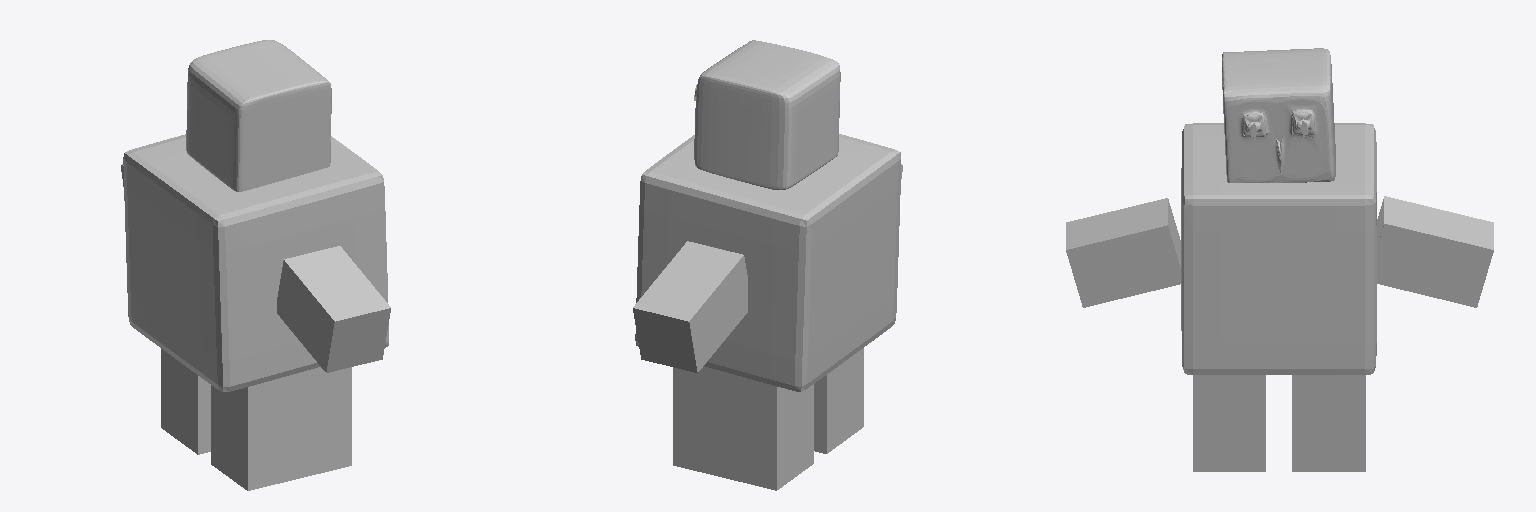
The picture shows the model from 3 angles: view 1: azimuth 30°, elevation 25°; view 2: azimuth 150°, elevation 25°; view 3: azimuth 270°, elevation 25°; orthographic projection.
Visible parts, largest first — view 1: Cube_Cube.001, Cube.001_Cube.002, Cube.002_Cube.003, Cube.005_Cube.007, Cube.003_Cube.004; view 2: Cube_Cube.001, Cube.001_Cube.002, Cube.003_Cube.004, Cube.004_Cube.005, Cube.002_Cube.003; view 3: Cube_Cube.001, Cube.001_Cube.002, Cube.004_Cube.005, Cube.005_Cube.007, Cube.003_Cube.004, Cube.002_Cube.003.
Part boxes in pixels (x1,y1,x2,y2): Cube_Cube.001: (123, 134, 388, 391); Cube.001_Cube.002: (186, 40, 331, 191); Cube.002_Cube.003: (211, 367, 351, 490); Cube.005_Cube.007: (277, 246, 390, 372); Cube.003_Cube.004: (161, 349, 210, 454); Cube_Cube.001: (635, 134, 900, 391); Cube.001_Cube.002: (694, 40, 840, 189); Cube.003_Cube.004: (673, 366, 813, 490); Cube.004_Cube.005: (633, 241, 747, 372); Cube.002_Cube.003: (814, 348, 863, 453); Cube_Cube.001: (1181, 123, 1376, 374); Cube.001_Cube.002: (1222, 48, 1335, 182); Cube.004_Cube.005: (1377, 196, 1493, 307); Cube.005_Cube.007: (1066, 198, 1180, 307); Cube.003_Cube.004: (1292, 375, 1365, 471); Cube.002_Cube.003: (1193, 375, 1265, 471).
Size of the model in its own units: 1.5 by 3.14 by 3.19.